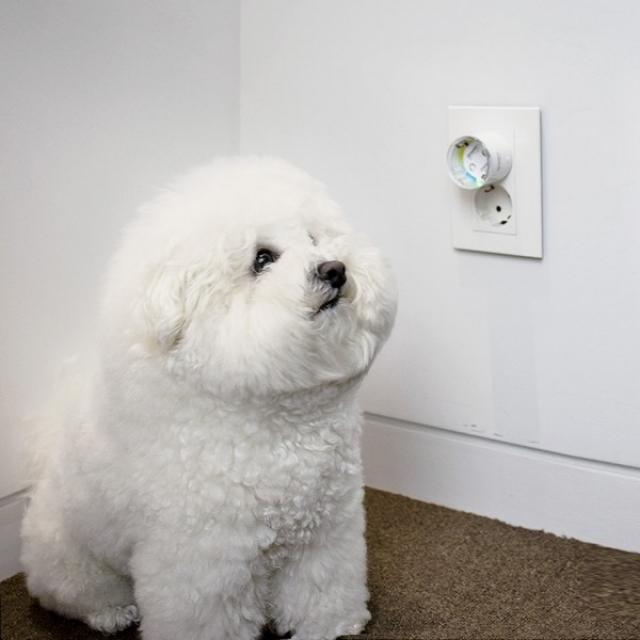typeb: (406, 81, 592, 295)
